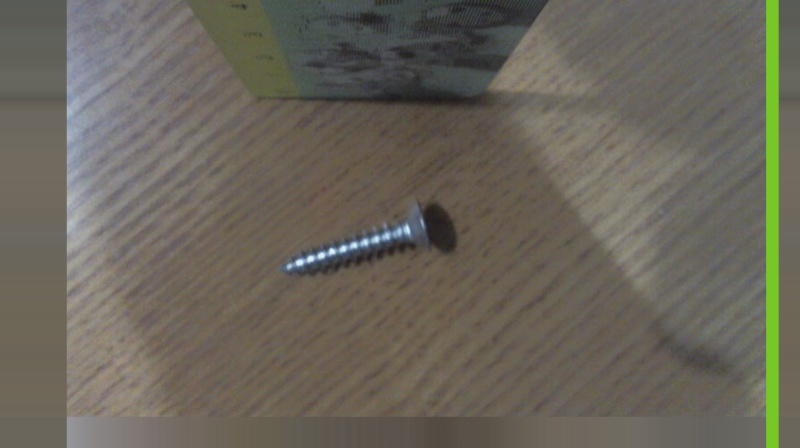S001: (276, 193, 433, 282)
